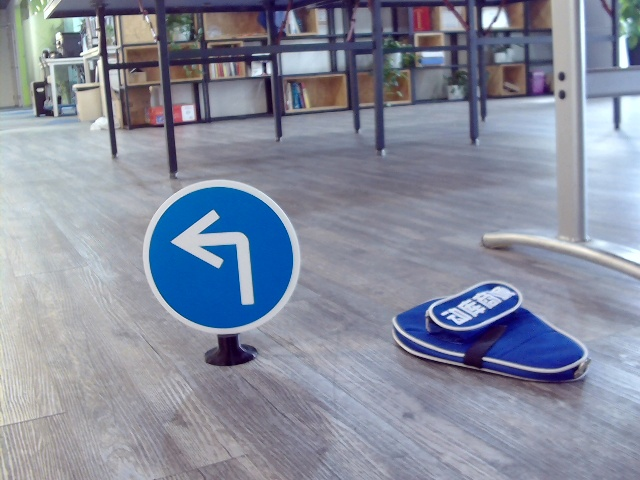turn_left: (167, 208, 267, 306)
